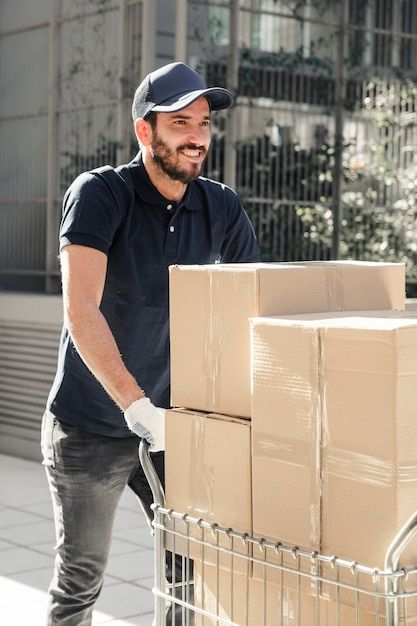DeliveryBox: (154, 253, 417, 575)
Person: (30, 51, 245, 626)
